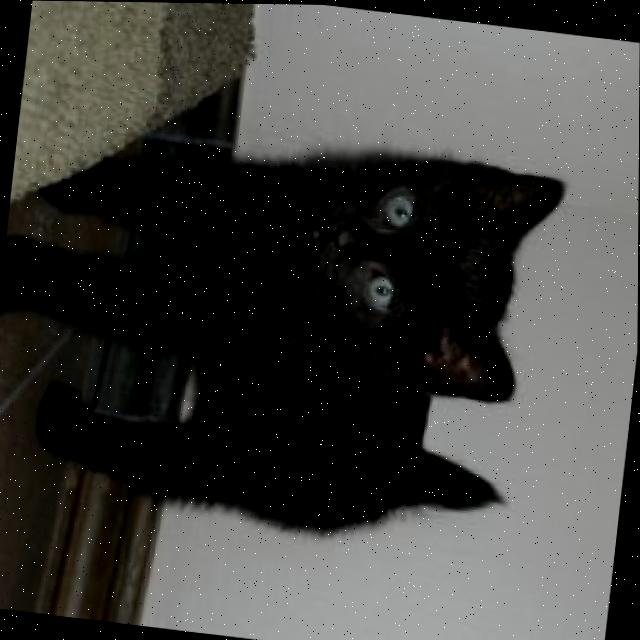American Bobtail: (0, 96, 577, 565)
